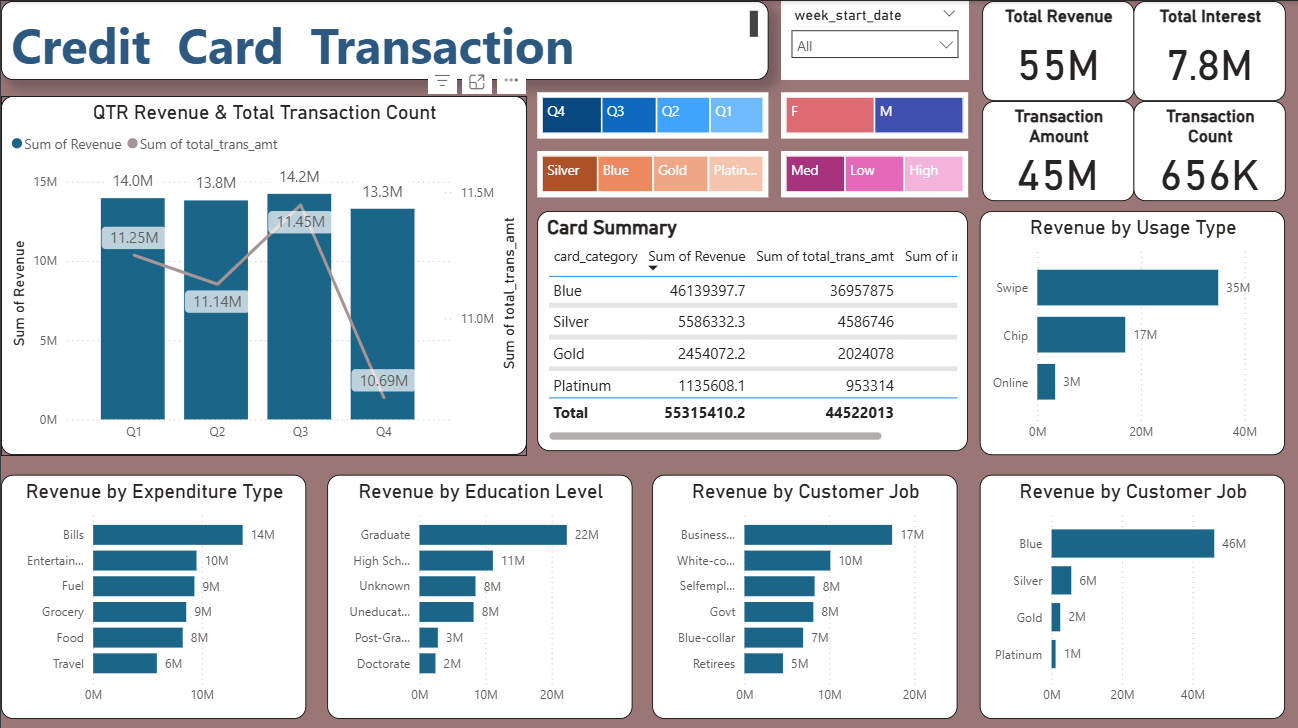

Layout of this report page (visuals, bound fields, positions):
{"tool":"powerbi","page":{"name":"Credit Card Transaction","canvas":[1280,720],"ordinal":1},"visuals":[{"type":"textbox","box":[0,0,754.4,77.6],"z":0},{"type":"lineStackedColumnComboChart","title":"QTR Revenue & Total Transaction Count","fields":{"Category":["public cc_detail.qtr"],"Y":["Sum(public cc_detail.Revenue)"],"Y2":["Sum(public cc_detail.total_trans_amt)"]},"box":[0,93.8,517.1,353],"z":1000},{"type":"barChart","title":"Revenue by Expenditure Type","fields":{"Y":["Sum(public cc_detail.Revenue)"],"Category":["public cc_detail.exp_type"]},"box":[0,465.8,300.3,240.2],"z":2000},{"type":"barChart","title":"Revenue by Education Level","fields":{"Y":["Sum(public cc_detail.Revenue)"],"Category":["public cust_detail.education_level"]},"box":[320.8,465.8,300.3,240.2],"z":3000},{"type":"barChart","title":"Revenue by Customer Job","fields":{"Y":["Sum(public cc_detail.Revenue)"],"Category":["public cust_detail.customer_job"]},"box":[640.1,465.8,300.3,240.2],"z":4000},{"type":"barChart","title":"Revenue by Customer Job","fields":{"Y":["Sum(public cc_detail.Revenue)"],"Category":["public cc_detail.card_category"]},"box":[962.4,465.8,300.3,240.2],"z":5000},{"type":"barChart","title":"Revenue by Usage Type","fields":{"Y":["Sum(public cc_detail.Revenue)"],"Category":["public cc_detail.use_chip"]},"box":[962.4,206.5,300.3,240.2],"z":6000},{"type":"tableEx","title":"Card Summary","fields":{"Values":["public cc_detail.card_category","Sum(public cc_detail.Revenue)","Sum(public cc_detail.total_trans_amt)","Sum(public cc_detail.interest_earned)"]},"box":[527.4,206.5,423.3,235.8],"z":7000},{"type":"card","title":"Total Revenue","fields":{"Values":["Sum(public cc_detail.Revenue)"]},"box":[963.9,0,149.4,98.1],"z":8000},{"type":"card","title":"Transaction Amount","fields":{"Values":["Sum(public cc_detail.total_trans_amt)"]},"box":[963.9,98.1,149.4,98.1],"z":9000},{"type":"card","title":"Total Interest","fields":{"Values":["Sum(public cc_detail.interest_earned)"]},"box":[1113.2,0,149.9,98.3],"z":10000},{"type":"card","title":"Transaction Count","fields":{"Values":["Sum(public cc_detail.total_trans_vol)"]},"box":[1113.2,98.3,149.9,98.3],"z":11000},{"type":"slicer","fields":{"Values":["public cc_detail.week_start_date"]},"box":[766.1,0,184.6,77.6],"z":12000},{"type":"treemap","fields":{"Group":["public cc_detail.qtr"],"Values":["Avg(public cc_detail.client_num)"]},"box":[527.1,89.7,227.3,45.5],"z":13000},{"type":"treemap","fields":{"Values":["Avg(public cc_detail.client_num)"],"Group":["public cc_detail.card_category"]},"box":[527.1,147.4,227.3,45.5],"z":14000},{"type":"treemap","fields":{"Values":["Avg(public cc_detail.client_num)"],"Group":["public cust_detail.gender"]},"box":[766.7,89.7,184.3,45.5],"z":15000},{"type":"treemap","fields":{"Values":["Avg(public cc_detail.client_num)"],"Group":["public cust_detail.IncomeGroup"]},"box":[766.7,147.4,184.3,45.5],"z":16000}]}

Visuals, with their boxes in screenshot pixels (x1, y1, x2, y2), scaled from the page's 1280x720 canvas onto the 1298x728 screenshot:
textbox: region(0, 0, 765, 78)
"QTR Revenue & Total Transaction Count" lineStackedColumnComboChart: region(0, 95, 524, 452)
"Revenue by Expenditure Type" barChart: region(0, 471, 305, 714)
"Revenue by Education Level" barChart: region(325, 471, 630, 714)
"Revenue by Customer Job" barChart: region(649, 471, 954, 714)
"Revenue by Customer Job" barChart: region(976, 471, 1280, 714)
"Revenue by Usage Type" barChart: region(976, 209, 1280, 452)
"Card Summary" tableEx: region(535, 209, 964, 447)
"Total Revenue" card: region(977, 0, 1129, 99)
"Transaction Amount" card: region(977, 99, 1129, 198)
"Total Interest" card: region(1129, 0, 1281, 99)
"Transaction Count" card: region(1129, 99, 1281, 199)
slicer - public cc_detail.week_start_date: region(777, 0, 964, 78)
treemap - public cc_detail.qtr x Avg(public cc_detail.client_num): region(535, 91, 765, 137)
treemap - Avg(public cc_detail.client_num) x public cc_detail.card_category: region(535, 149, 765, 195)
treemap - Avg(public cc_detail.client_num) x public cust_detail.gender: region(777, 91, 964, 137)
treemap - Avg(public cc_detail.client_num) x public cust_detail.IncomeGroup: region(777, 149, 964, 195)
